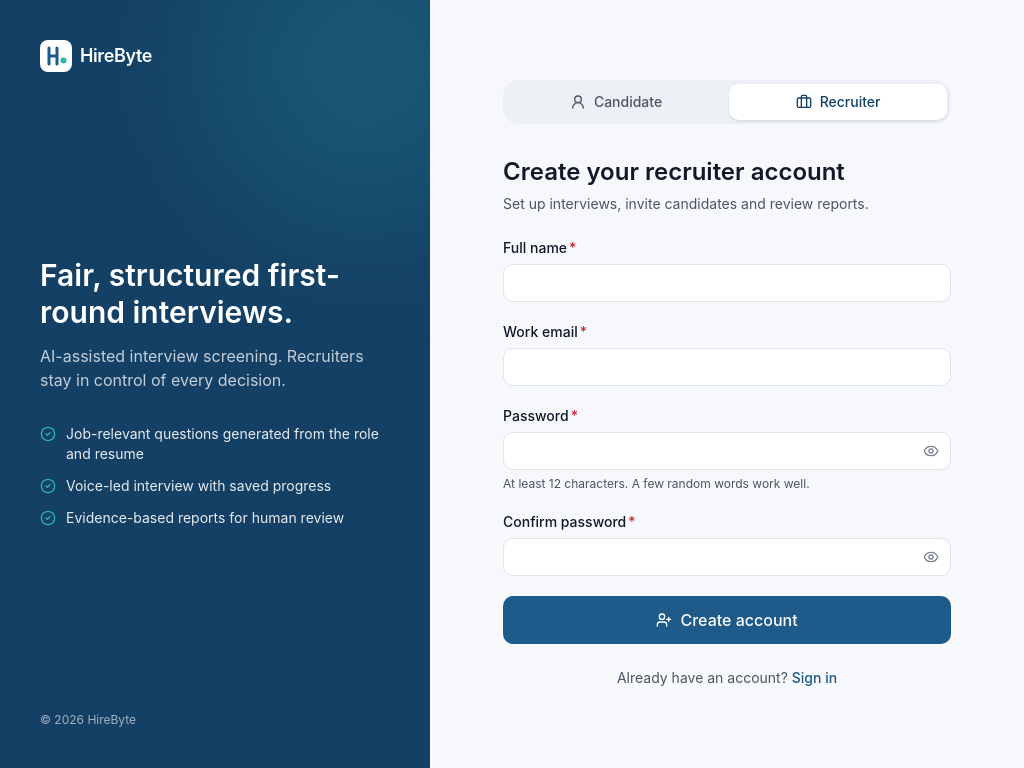
Test: RecruiterRegisterPage › says the email is taken on the email field and clears both passwords
Step 1. Type "Priya Sharma" into the field labelled "Full name*" → (727, 283), box x1=503 y1=264 x2=951 y2=302
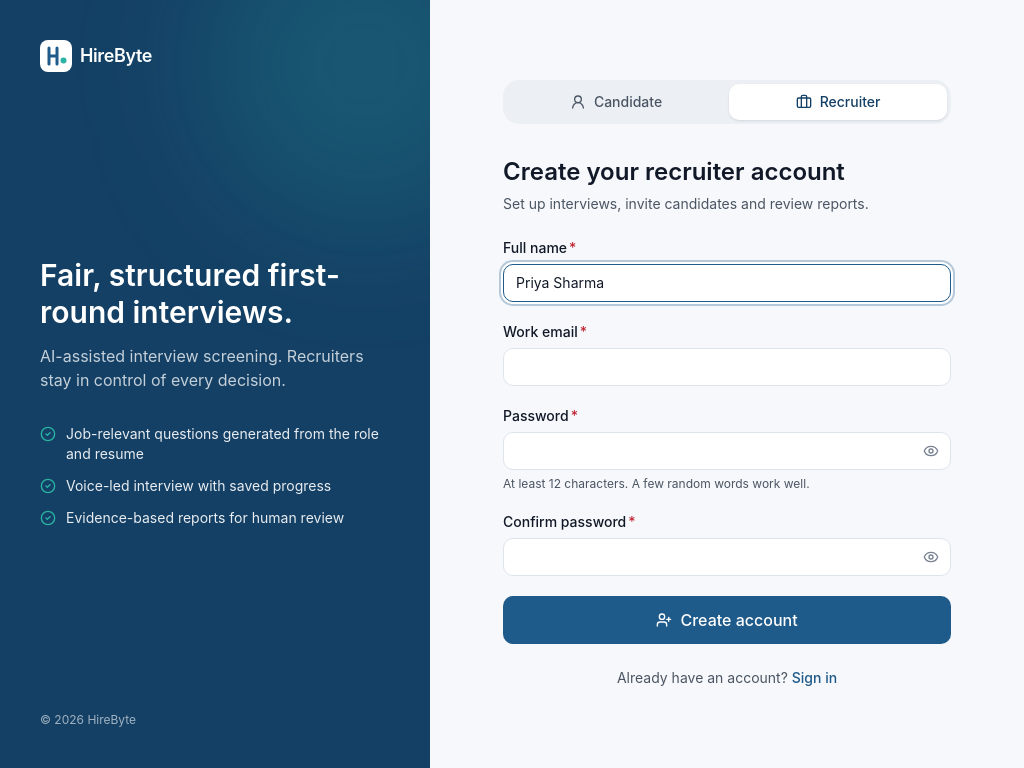
Step 2. Type "priya@example.test" into the field labelled "Work email*" → (727, 367), box x1=503 y1=348 x2=951 y2=386
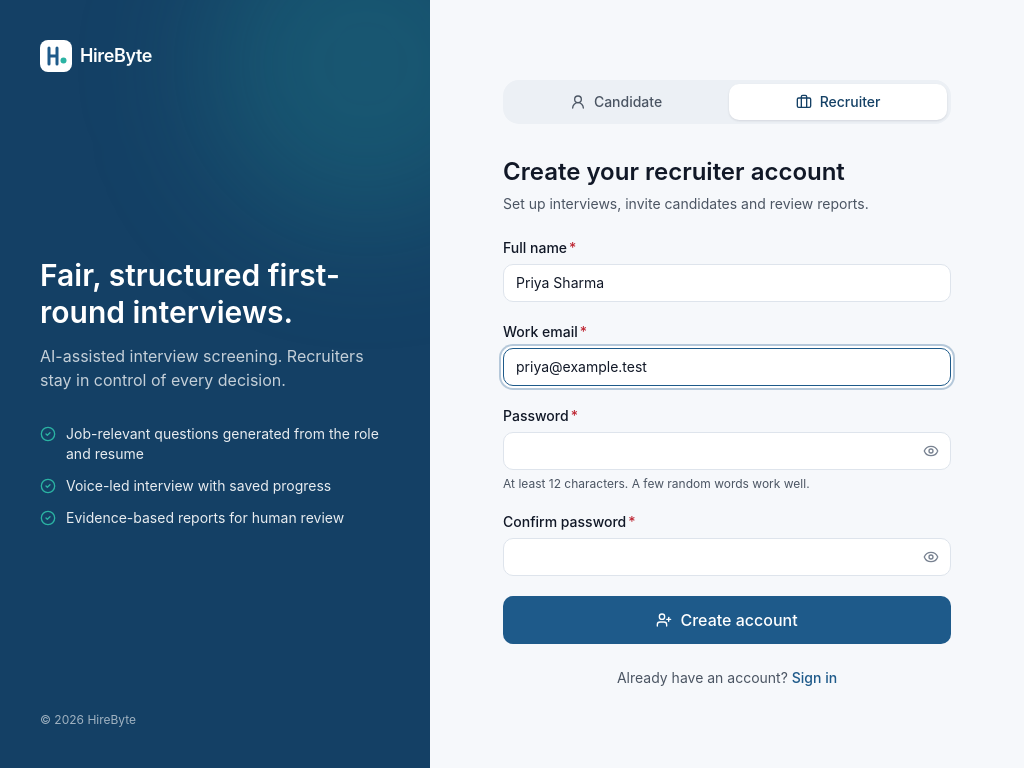
Step 3. Type "a-long-unique-passphrase-2026" into the password field labelled "Password*" → (727, 451), box x1=503 y1=432 x2=951 y2=470
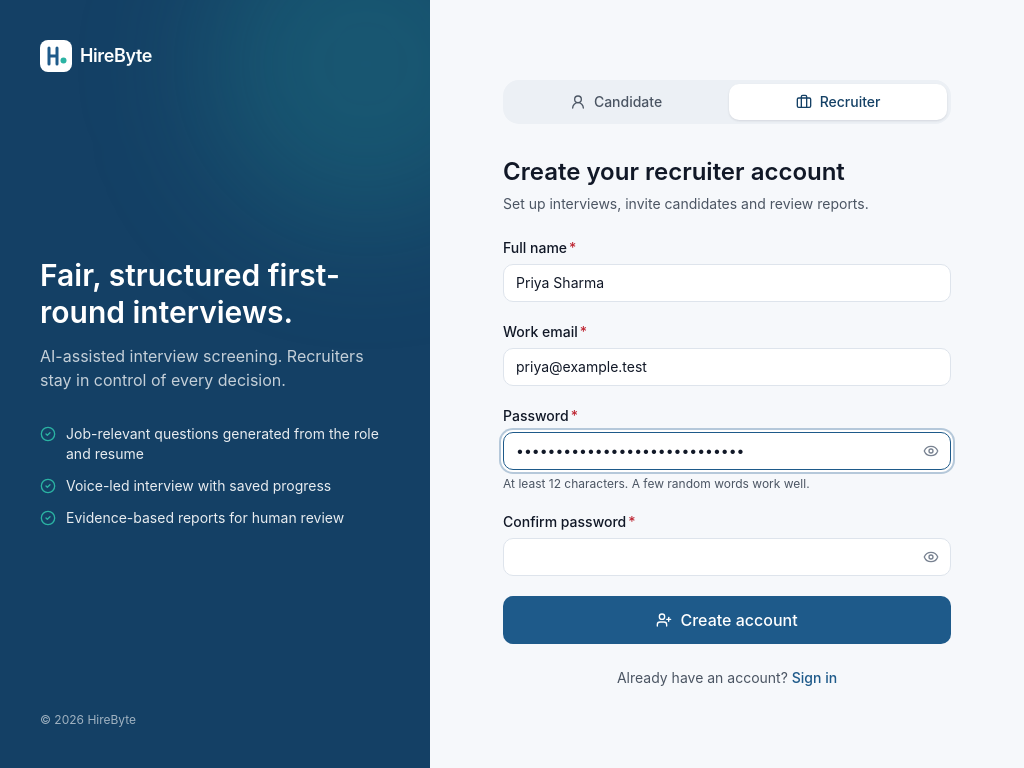
Step 4. Type "a-long-unique-passphrase-2026" into the password field labelled "Confirm password*" → (727, 557), box x1=503 y1=538 x2=951 y2=576
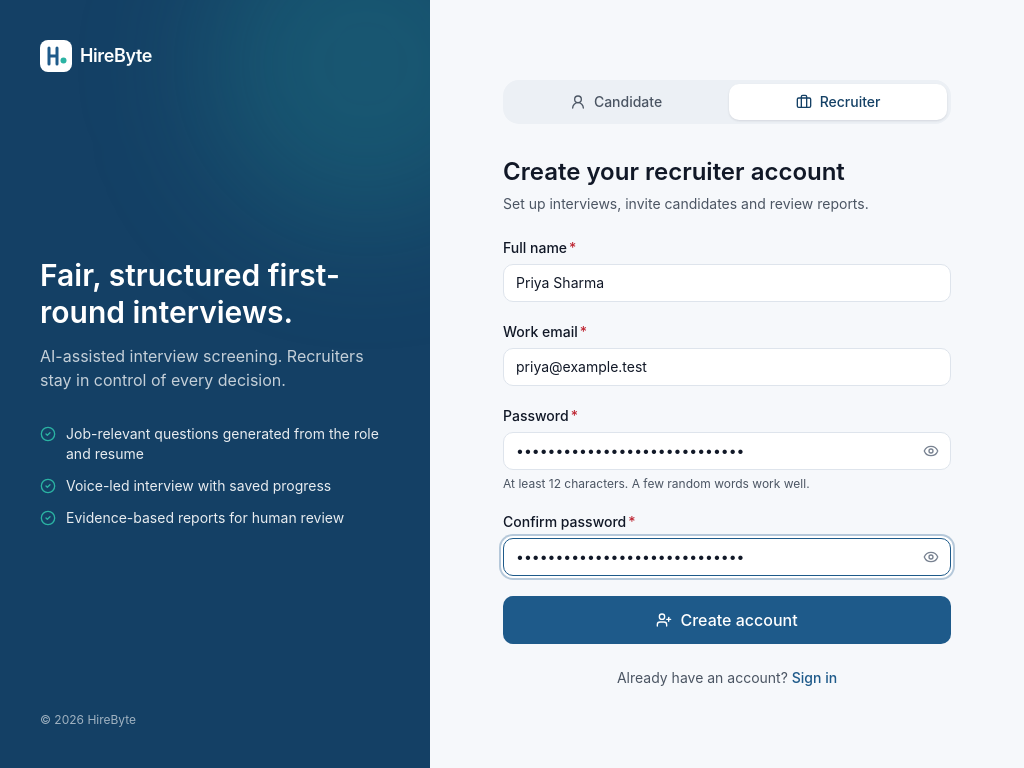
Step 5. Click the button "Create account" → (727, 620), box x1=503 y1=596 x2=951 y2=644
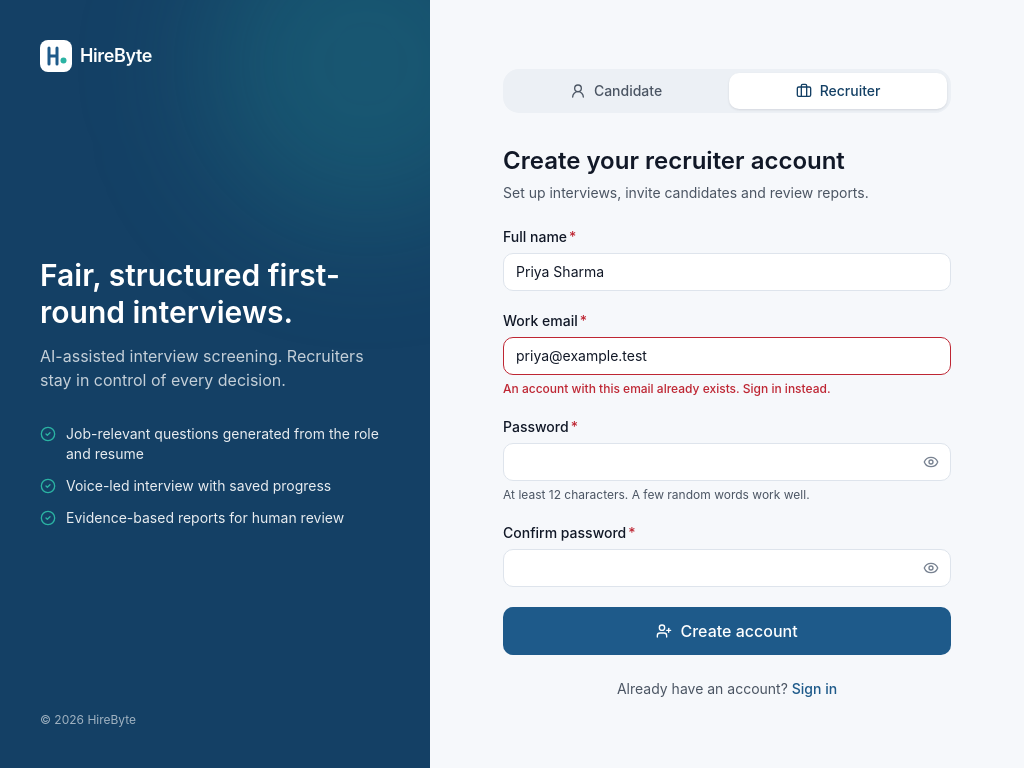
Check: the text "An account with this email already exists. Sign in instead." is shown, box x1=503 y1=381 x2=830 y2=396
Check: the password field labelled "Password*" is empty, box x1=503 y1=443 x2=951 y2=481
Check: the password field labelled "Confirm password*" is empty, box x1=503 y1=549 x2=951 y2=587
